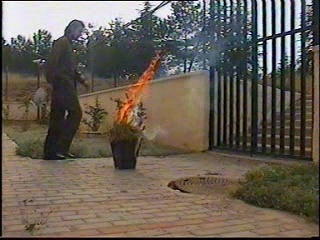smoke: (155, 26, 227, 81)
